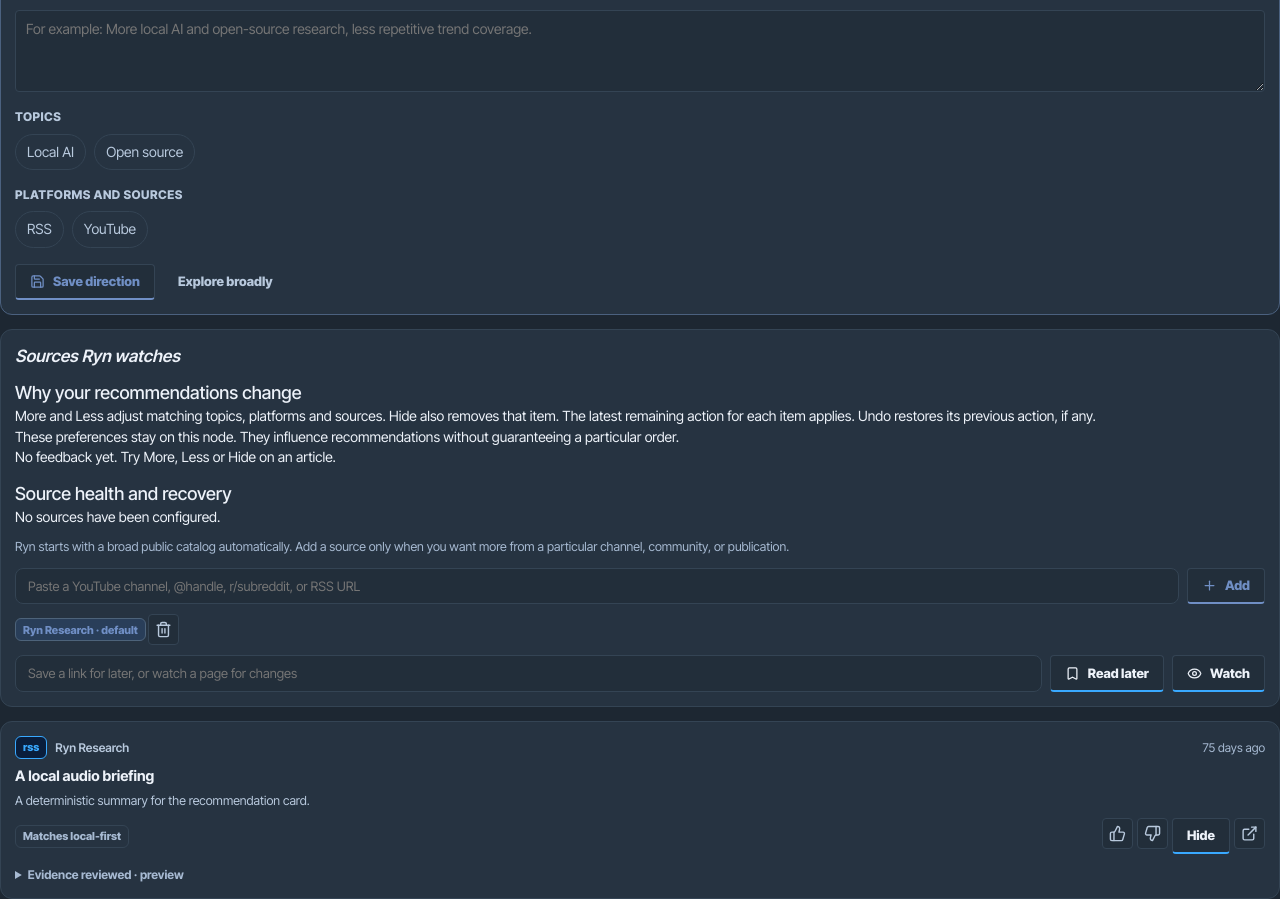
DigestViewer formats › opens an audio item with a non-autoplay local fixture source
The width and height of the screenshot is (1280, 899).
(page scrolled)
Click the button "A local audio briefing" at coordinates (85, 776), box [15,765,1265,786]
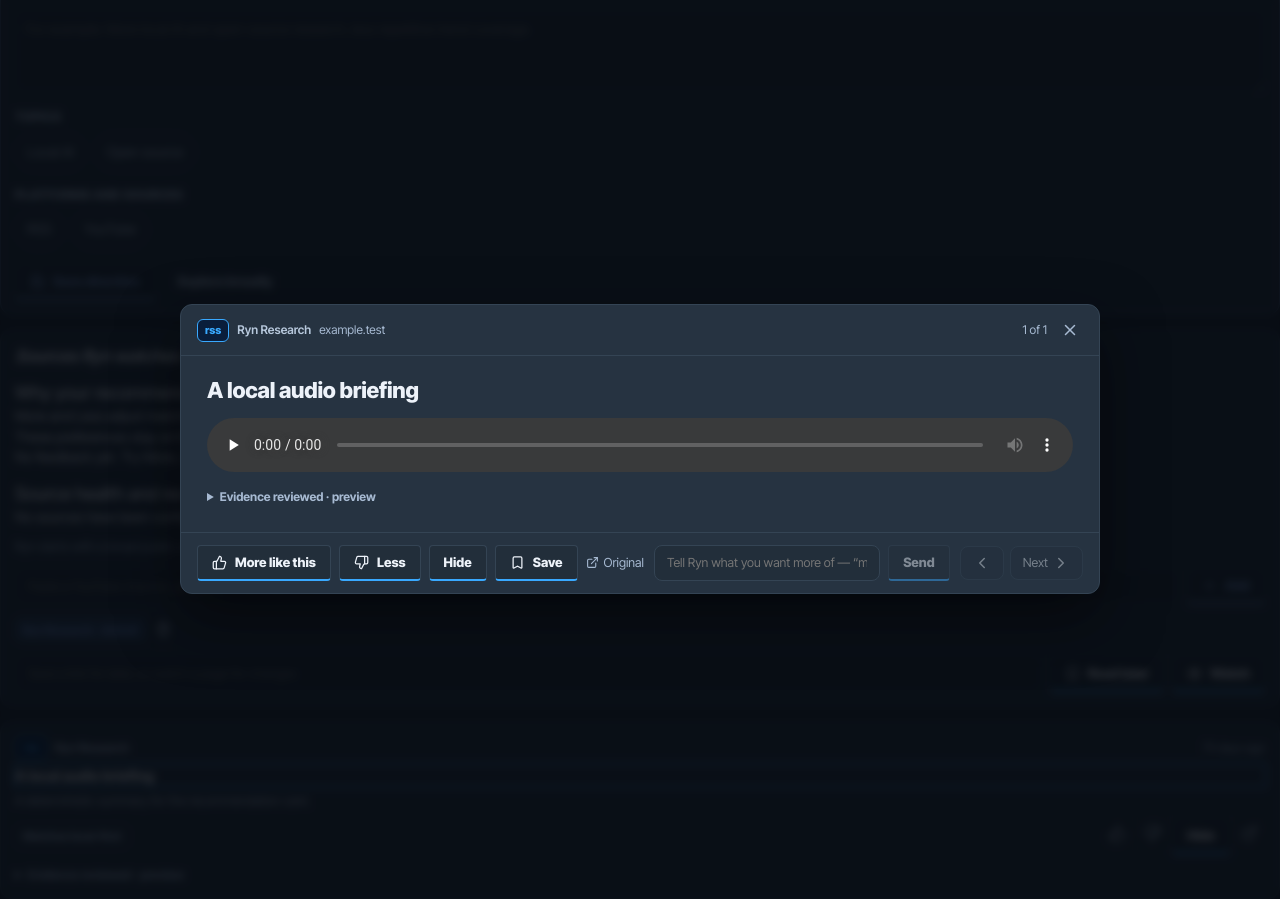
Now the dialog "A local audio briefing" is shown, box [180,304,1100,594]
